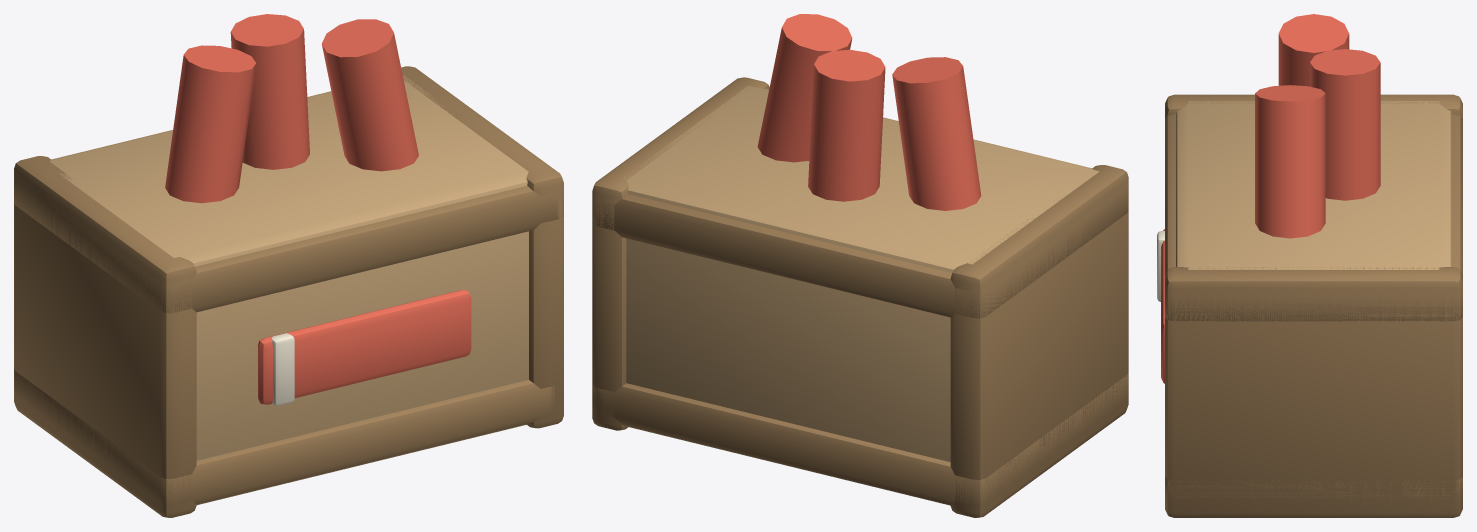
Rendered from dynamite_box.glb.
3 views of the same model, side by side, from view 1: azimuth 30°, elevation 25°; view 2: azimuth 150°, elevation 25°; view 3: azimuth 270°, elevation 25° (orthographic). The views are drawn at different scales.
Parts seen in each view (by area): view 1: dynamite_box; view 2: dynamite_box; view 3: dynamite_box.
Boxes of the visible parts, box(x1,y1,x2,y2) form: dynamite_box: box(14, 14, 563, 517); dynamite_box: box(592, 14, 1128, 517); dynamite_box: box(1157, 14, 1462, 517).
Bounding box in the file's own units: 0.57 × 0.516 × 0.39.
